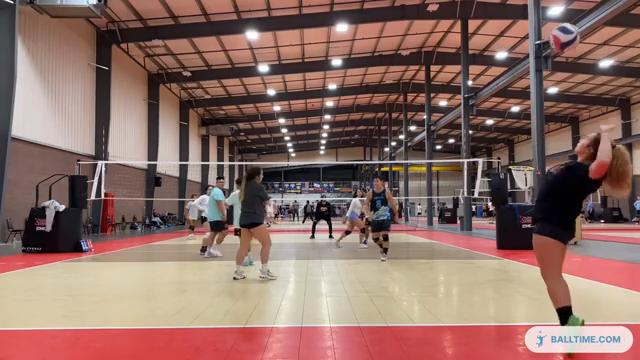battuta: (524, 126, 631, 324)
